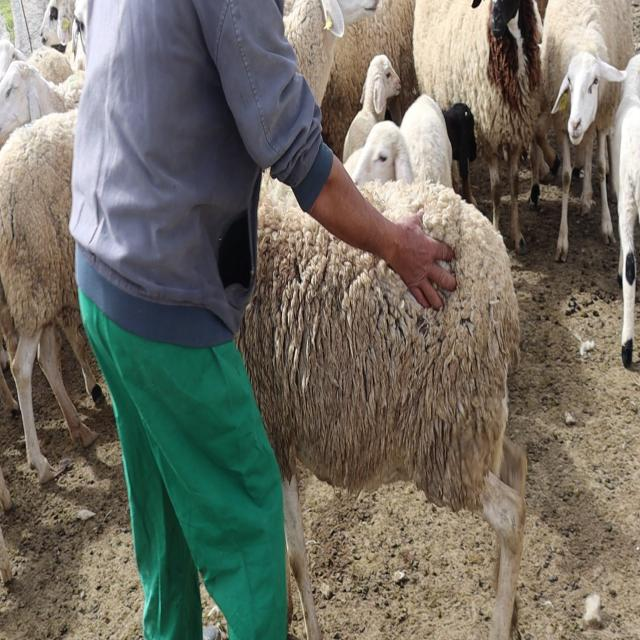Score_2: (237, 181, 527, 639)
